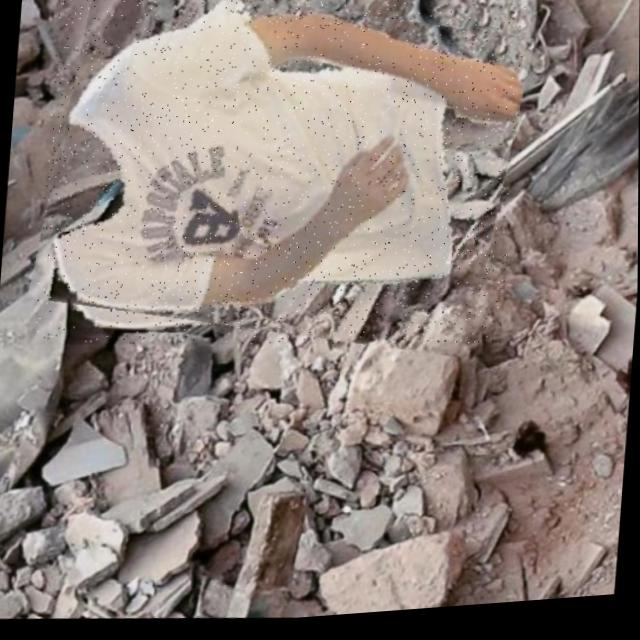Person in Rubble: (33, 0, 527, 377)
